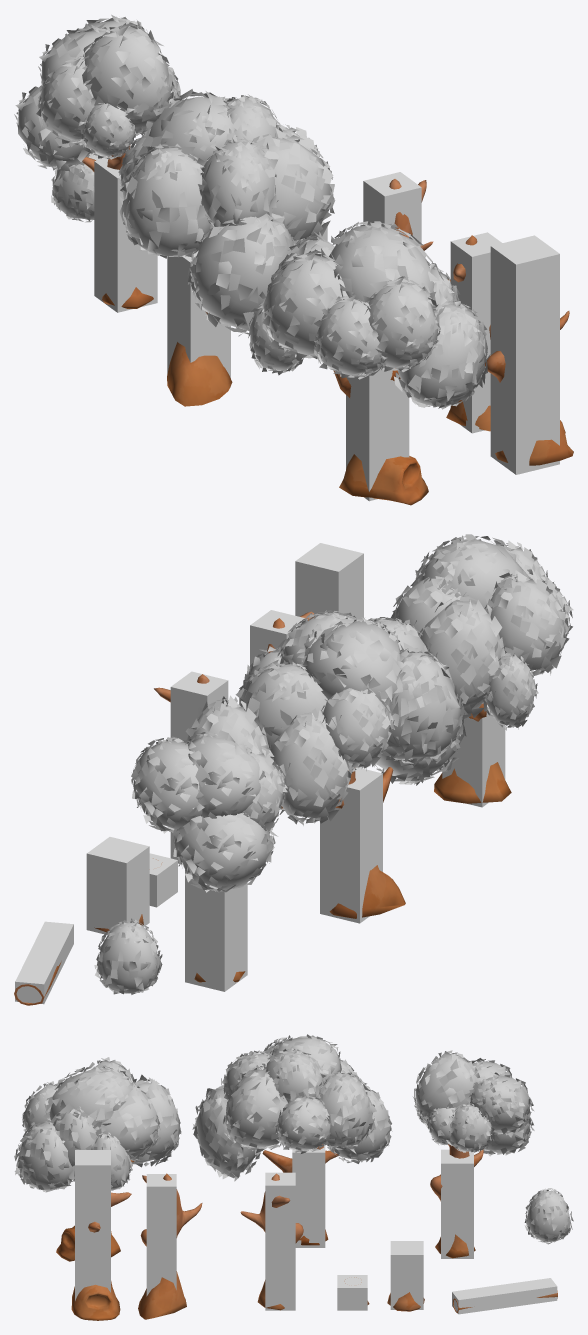
File: Arbres (2).fbx
3 views of the same model, one above another, from view 1: azimuth 30°, elevation 25°; view 2: azimuth 150°, elevation 25°; view 3: azimuth 270°, elevation 25° (orthographic). The views are drawn at different scales.
Visible parts, largest first — view 1: Buissons.001, Buissons.013, Buissons.010, Cube.221, Cube.216, Cube.165, Cube.213, Cube.220, Buissons.014, Buissons.011, Cube.219, Buissons.012 (+3 smaller); view 2: Buissons.001, Buissons.013, Buissons.010, Cube.213, Cube.216, Cube.217, Cube.221, Buissons.012, Cube.165, Cube.222, Cube.219, Buissons.011 (+3 smaller); view 3: Buissons.001, Buissons.013, Buissons.010, Cube.221, Cube.219, Cube.220, Cube.216, Cube.213, Cube.222, Cube.217, Buissons.012, Arbre 2.003 (+7 smaller).
Part boxes in pixels (left/top/right/bottom): Buissons.001: left=118, top=89, right=335, bottom=336; Buissons.013: left=248, top=221, right=490, bottom=409; Buissons.010: left=14, top=14, right=181, bottom=171; Cube.221: left=490, top=235, right=559, bottom=474; Cube.216: left=94, top=158, right=157, bottom=312; Cube.165: left=346, top=367, right=409, bottom=501; Cube.213: left=167, top=250, right=230, bottom=387; Cube.220: left=450, top=232, right=502, bottom=433; Buissons.014: left=333, top=368, right=428, bottom=505; Buissons.011: left=167, top=311, right=232, bottom=406; Cube.219: left=363, top=172, right=421, bottom=245; Buissons.012: left=51, top=152, right=105, bottom=222; Buissons.001: left=234, top=610, right=467, bottom=826; Buissons.013: left=391, top=534, right=573, bottom=730; Buissons.010: left=131, top=695, right=287, bottom=892; Cube.213: left=320, top=767, right=382, bottom=923; Cube.216: left=185, top=870, right=247, bottom=991; Cube.217: left=86, top=837, right=149, bottom=934; Cube.221: left=295, top=543, right=363, bottom=621; Buissons.012: left=94, top=918, right=162, bottom=994; Cube.165: left=442, top=698, right=505, bottom=807; Cube.222: left=15, top=921, right=73, bottom=1004; Cube.219: left=170, top=671, right=228, bottom=863; Buissons.011: left=329, top=767, right=405, bottom=918; Buissons.001: left=192, top=1034, right=392, bottom=1181; Buissons.013: left=14, top=1057, right=181, bottom=1192; Buissons.010: left=412, top=1050, right=534, bottom=1156; Cube.221: left=75, top=1150, right=110, bottom=1300; Cube.219: left=265, top=1172, right=295, bottom=1310; Cube.220: left=146, top=1174, right=176, bottom=1296; Cube.216: left=441, top=1149, right=473, bottom=1258; Cube.213: left=292, top=1144, right=325, bottom=1247; Cube.222: left=452, top=1278, right=557, bottom=1314; Cube.217: left=390, top=1241, right=423, bottom=1309; Buissons.012: left=524, top=1188, right=573, bottom=1244; Arbre 2.003: left=138, top=1173, right=202, bottom=1319.
Bounding box in the file's own units: 1876 × 1683 × 4060.
